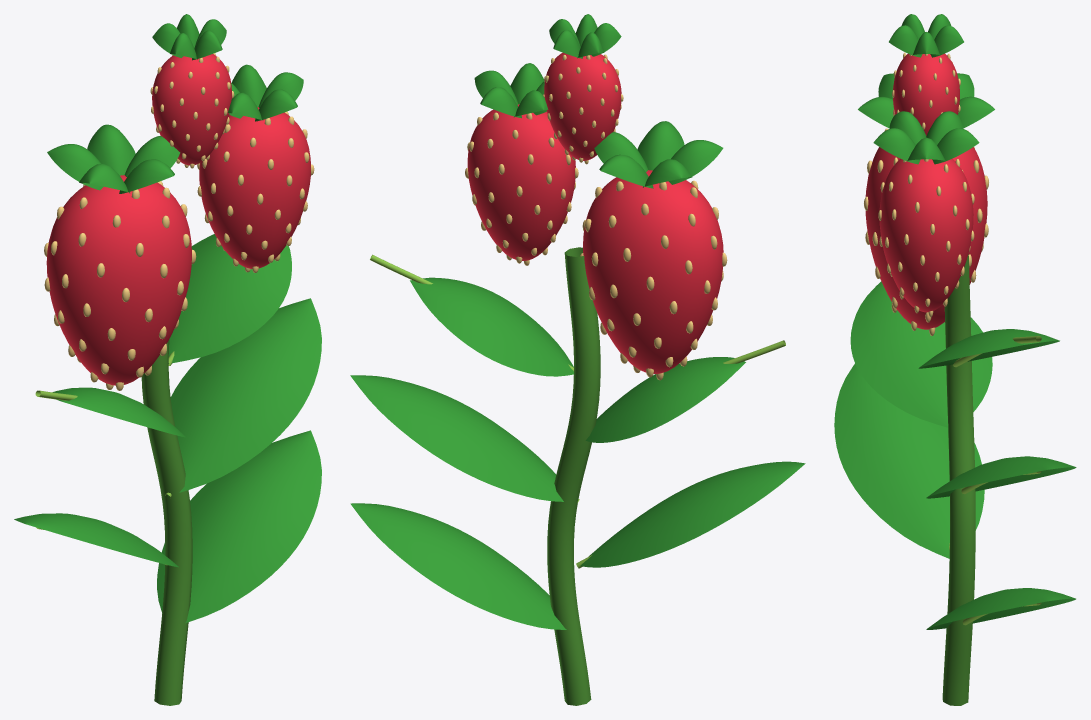
File: berry-v15.glb
3 renders of one model, left to right at view 1: azimuth 30°, elevation 25°; view 2: azimuth 150°, elevation 25°; view 3: azimuth 270°, elevation 25°, orthographic. The views are drawn at different scales.
Visible parts, largest first — view 1: PlantBody_Leaf green, Harvest_Strawberry skin, Harvest_Leaf green, Living curved stem, Harvest_Golden seeds; view 2: PlantBody_Leaf green, Harvest_Strawberry skin, Living curved stem, Harvest_Leaf green, Harvest_Golden seeds, PlantBody_Leaf vein; view 3: PlantBody_Leaf green, Harvest_Strawberry skin, Living curved stem, Harvest_Leaf green, Harvest_Golden seeds, PlantBody_Leaf vein.
Part boxes in pixels (x1,y1,x2,y2): PlantBody_Leaf green: [14, 234, 321, 623]; Harvest_Strawberry skin: [46, 54, 310, 385]; Harvest_Leaf green: [47, 14, 303, 193]; Living curved stem: [141, 339, 192, 705]; Harvest_Golden seeds: [44, 53, 314, 390]; PlantBody_Leaf green: [350, 277, 805, 629]; Harvest_Strawberry skin: [467, 52, 723, 373]; Living curved stem: [547, 247, 600, 705]; Harvest_Leaf green: [474, 14, 723, 188]; Harvest_Golden seeds: [465, 54, 727, 380]; PlantBody_Leaf vein: [370, 254, 785, 568]; PlantBody_Leaf green: [834, 281, 1076, 629]; Harvest_Strawberry skin: [865, 53, 987, 329]; Living curved stem: [942, 254, 975, 705]; Harvest_Leaf green: [858, 14, 994, 164]; Harvest_Golden seeds: [864, 52, 988, 335]; PlantBody_Leaf vein: [949, 335, 1041, 625].
Size of the model in its own units: 1.2 by 2.08 by 0.6677.
